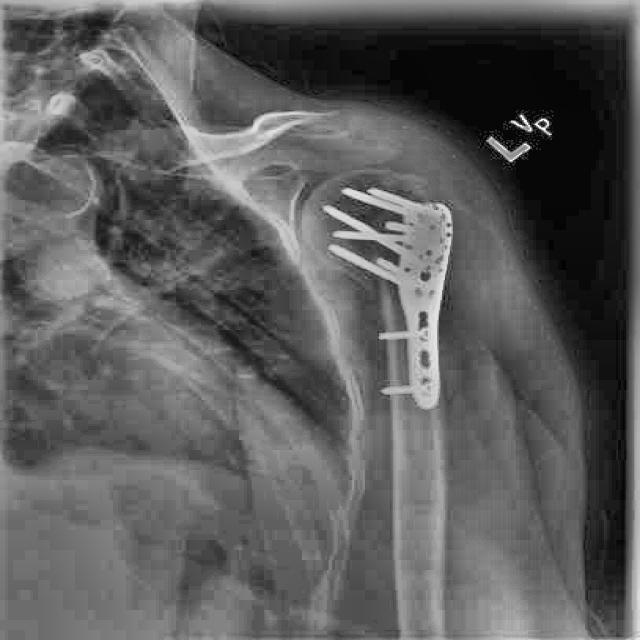shoulder fracture: (329, 256, 415, 314)
